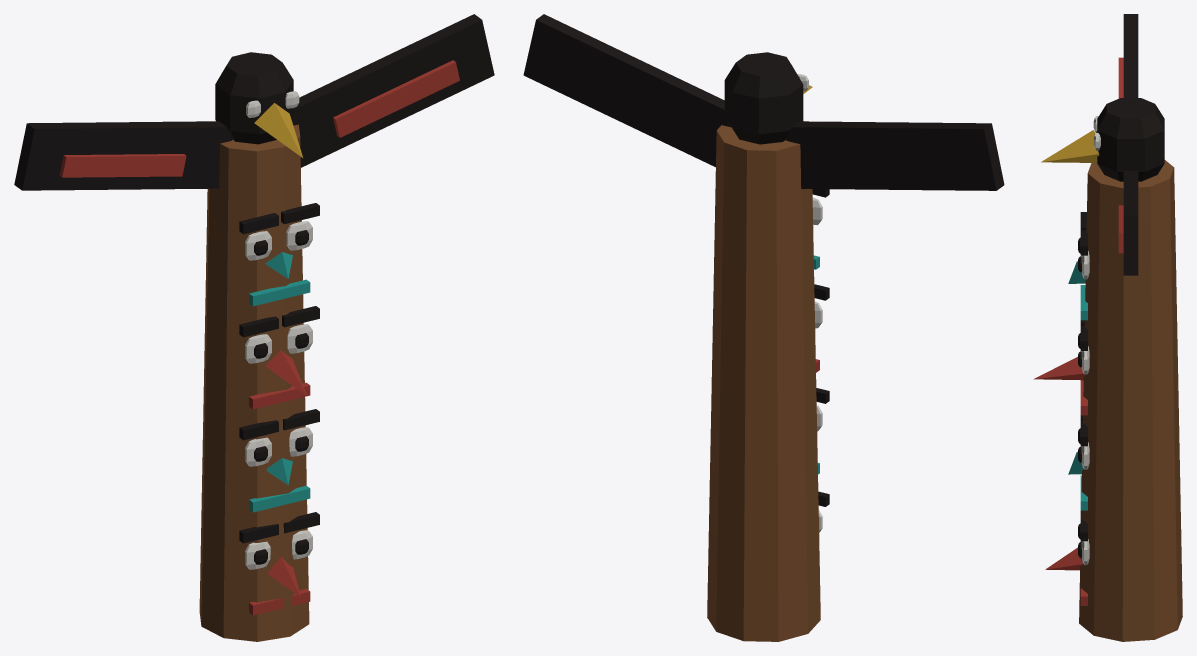
The model's file is bird_landmark_broken.glb.
3 views of the same model, side by side, from view 1: azimuth 30°, elevation 25°; view 2: azimuth 150°, elevation 25°; view 3: azimuth 270°, elevation 25° (orthographic). The views are drawn at different scales.
Parts seen in each view (by area): view 1: bird_landmark_piece1, bird_landmark_piece4, bird_landmark_piece5, bird_landmark_piece3, bird_landmark_piece10, bird_landmark_piece2, bird_landmark_piece11, bird_landmark_piece8, bird_landmark_piece0; view 2: bird_landmark_piece0, bird_landmark_piece3, bird_landmark_piece13, bird_landmark_piece1, bird_landmark_piece5, bird_landmark_piece10, bird_landmark_piece4, bird_landmark_piece11, bird_landmark_piece7; view 3: bird_landmark_piece3, bird_landmark_piece7, bird_landmark_piece0, bird_landmark_piece8, bird_landmark_piece13, bird_landmark_piece6, bird_landmark_piece9, bird_landmark_piece1, bird_landmark_piece2, bird_landmark_piece4, bird_landmark_piece5, bird_landmark_piece10.
Boxes of the visible parts, box(x1,y1,x2,y2) form: bird_landmark_piece1: box(183, 66, 319, 406); bird_landmark_piece4: box(203, 347, 315, 641); bird_landmark_piece5: box(14, 122, 302, 190); bird_landmark_piece3: box(206, 45, 409, 277); bird_landmark_piece10: box(391, 14, 494, 122); bird_landmark_piece2: box(246, 68, 319, 395); bird_landmark_piece11: box(128, 121, 194, 189); bird_landmark_piece8: box(297, 397, 319, 586); bird_landmark_piece0: box(199, 333, 306, 627); bird_landmark_piece0: box(710, 333, 809, 641); bird_landmark_piece3: box(600, 50, 796, 290); bird_landmark_piece13: box(712, 216, 799, 364); bird_landmark_piece1: box(760, 53, 832, 366); bird_landmark_piece5: box(808, 85, 1004, 190); bird_landmark_piece10: box(523, 14, 626, 113); bird_landmark_piece4: box(799, 353, 829, 631); bird_landmark_piece11: box(826, 121, 898, 189); bird_landmark_piece7: box(707, 431, 753, 641); bird_landmark_piece3: box(1086, 98, 1175, 294); bird_landmark_piece7: box(1131, 446, 1182, 641); bird_landmark_piece0: box(1086, 349, 1182, 599); bird_landmark_piece8: box(1080, 422, 1138, 590); bird_landmark_piece13: box(1086, 253, 1177, 396); bird_landmark_piece6: box(1081, 256, 1162, 372); bird_landmark_piece9: box(1080, 524, 1135, 641); bird_landmark_piece1: box(1057, 98, 1139, 410); bird_landmark_piece2: box(1033, 103, 1111, 379); bird_landmark_piece4: box(1045, 401, 1091, 627); bird_landmark_piece5: box(1041, 14, 1138, 162); bird_landmark_piece10: box(1118, 196, 1138, 275).
Size of the model in its own units: 3.46 by 3.87 by 1.03.
